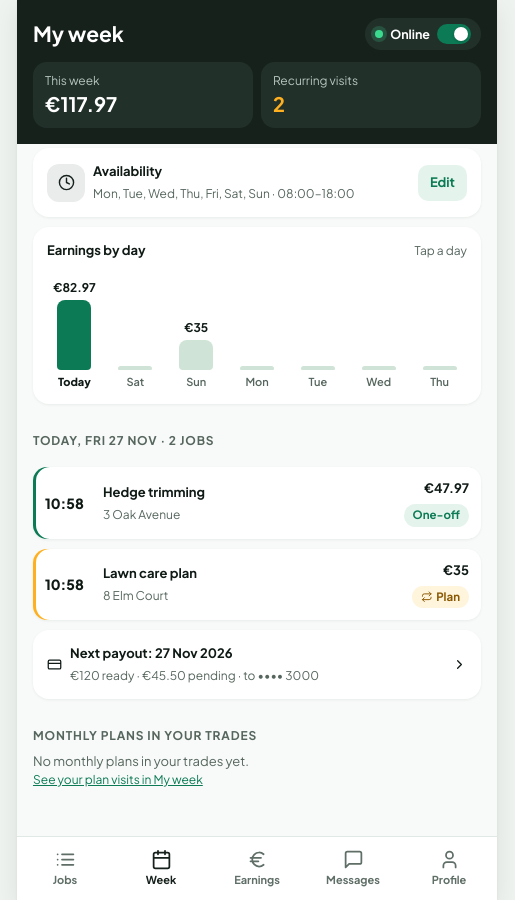
Scenario: My week (D99) › shows the online switch, the week totals and a bar per day, and lists the chosen day with plan and one-off edges
Expected: the heading "My week" is shown, x1=33 y1=19 x2=124 y2=49
Expected: the text "€117.97" is shown, x1=45 y1=91 x2=117 y2=116
// The same switch as on Jobs.
What coordinates should you click on to do the following:
click the switch named "Online for new job offers"
I would click on:
 (423, 34)
Its box is x1=365 y1=18 x2=481 y2=50.
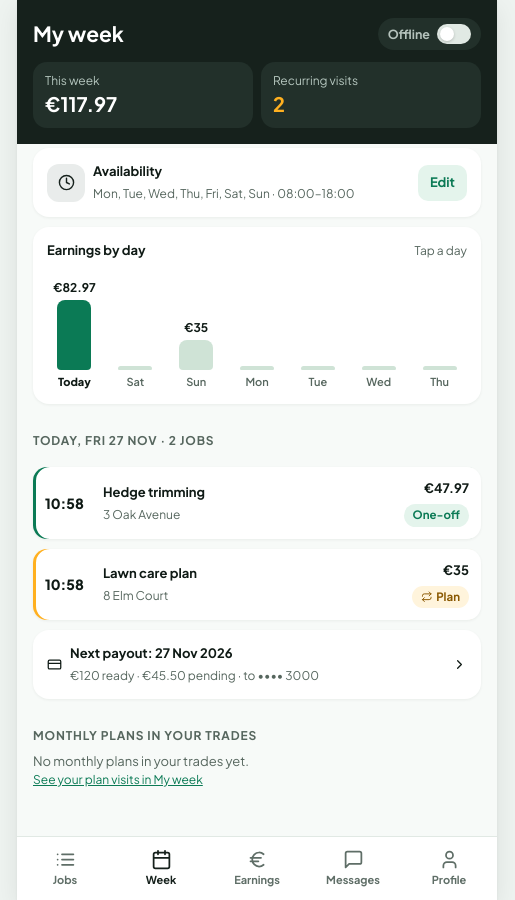
Expected: the text "One-off" is shown, x1=404 y1=504 x2=469 y2=527
Result: the switch named "Online for new job offers" is not checked at x1=378 y1=18 x2=481 y2=50
What coordinates should you click on to do the following:
click the button "€35 Sun"
I would click on:
 (196, 330)
Its box is x1=169 y1=270 x2=224 y2=390.
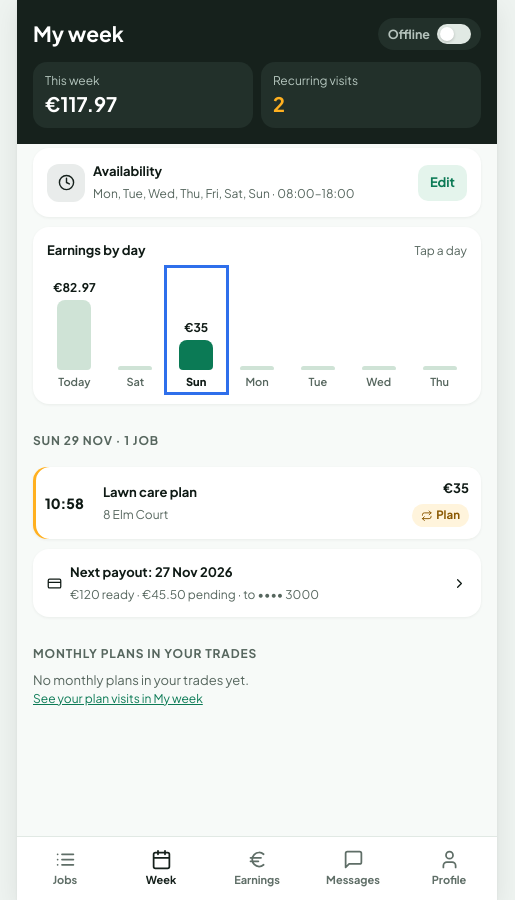
What coordinates should you click on to do the following:
click the button "Sat"
I would click on:
 (135, 330)
Its box is x1=108 y1=270 x2=163 y2=390.
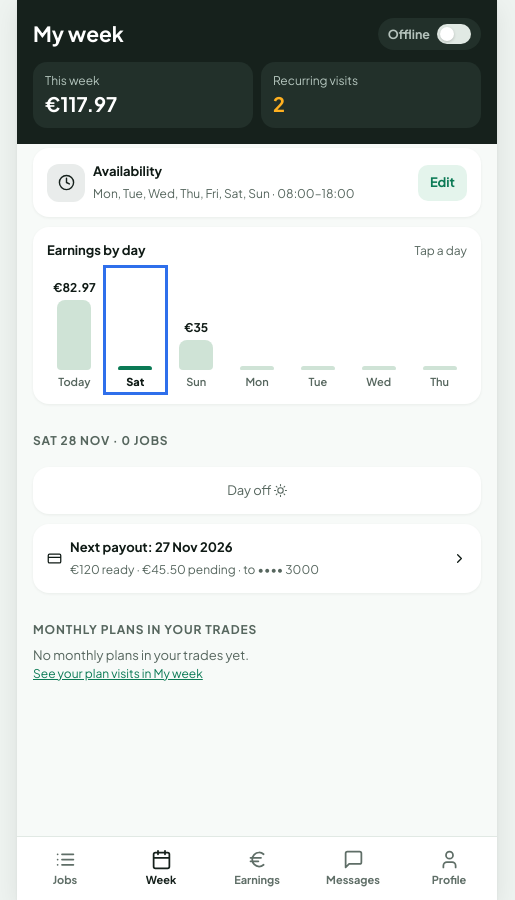
Result: the text "Day off" is shown at x1=33 y1=467 x2=481 y2=514
